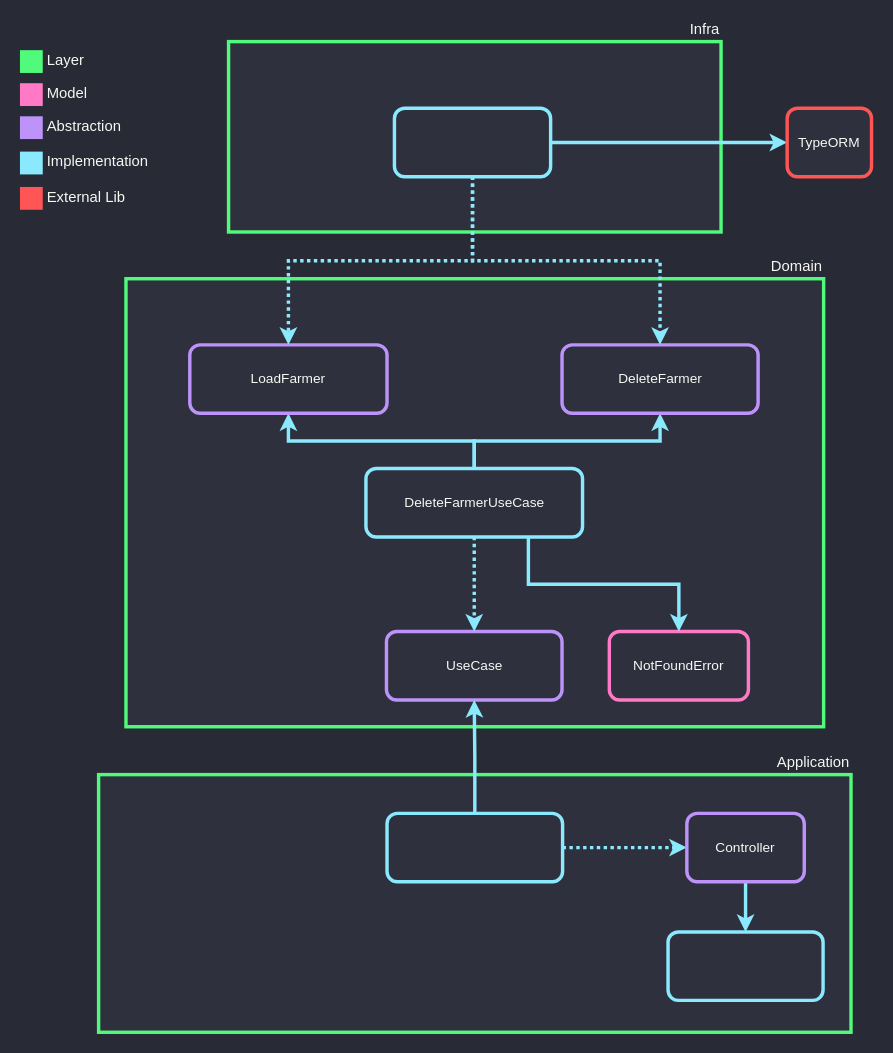
This 893x1053 diagram has some shape labels left out. The centre of each missing label's shape, as x and y in pixels:
"DeleteFarmerController" belongs at pixel 474 847.
"FarmerRepo" belongs at pixel 472 142.
"Validation" belongs at pixel 745 965.
